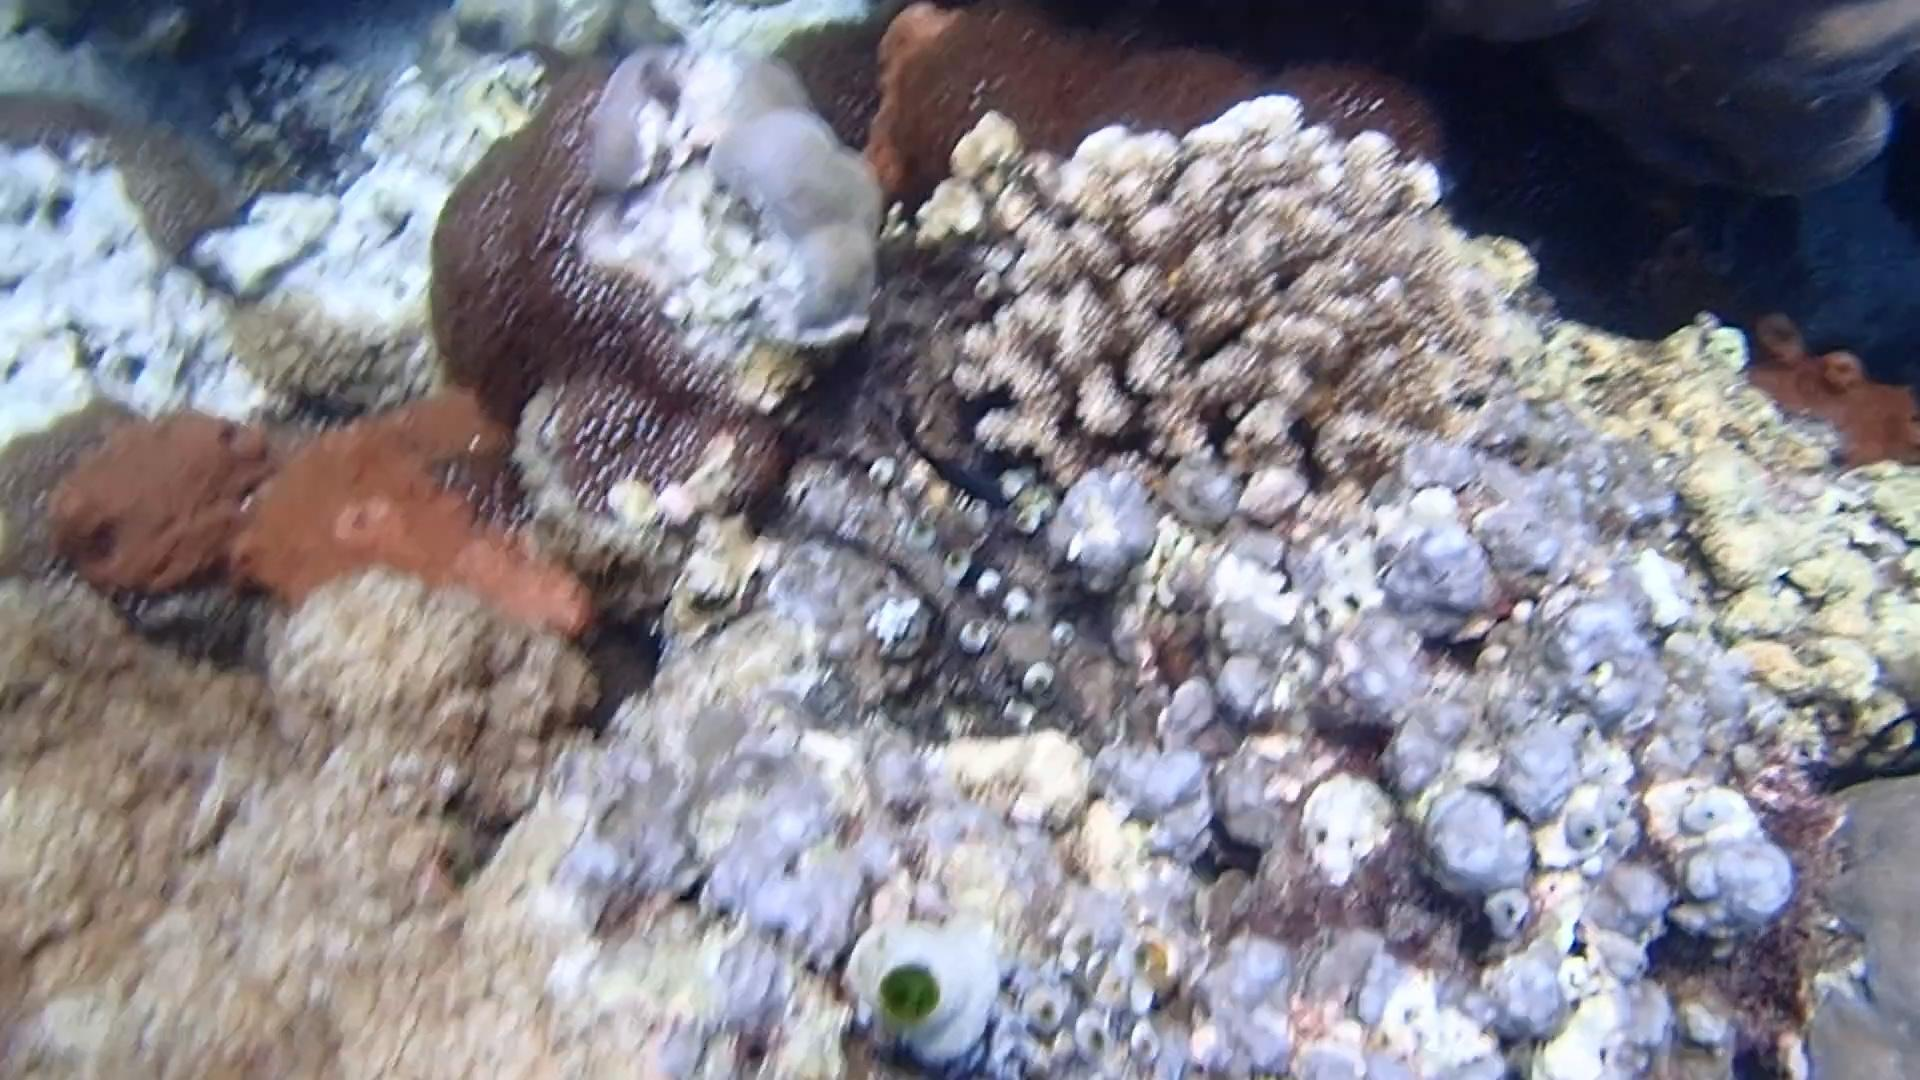Dark Fish: (881, 406, 1015, 516)
